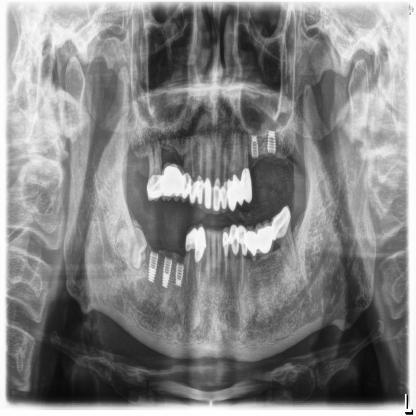Bicon: (143, 240, 161, 290), (160, 244, 177, 294), (173, 250, 186, 296)
